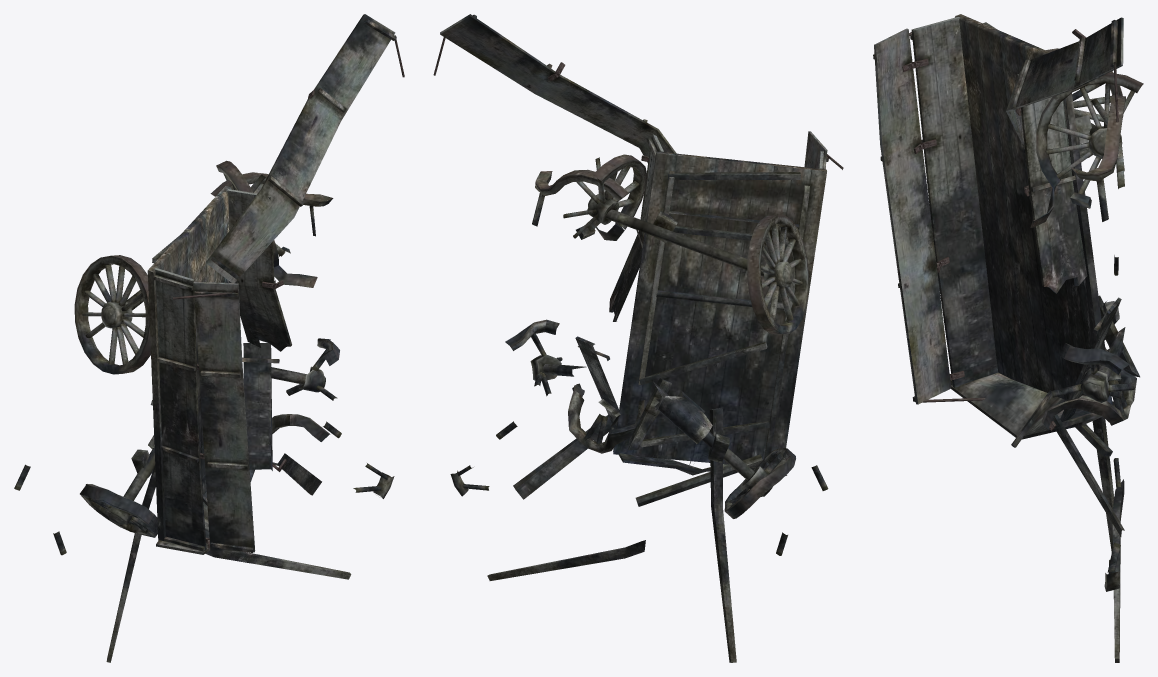
File: haycart_destroyed.glb
3 renders of one model, left to right at view 1: azimuth 30°, elevation 25°; view 2: azimuth 150°, elevation 25°; view 3: azimuth 270°, elevation 25°, orthographic. The views are drawn at different scales.
Bounding box in the file's own units: 194 × 277 × 99.42.
1 material, 1 textured.
